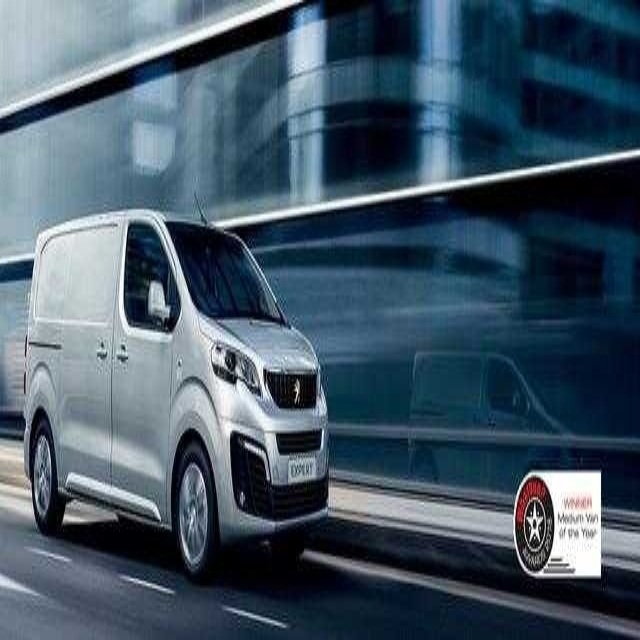Van: (23, 207, 329, 583)
